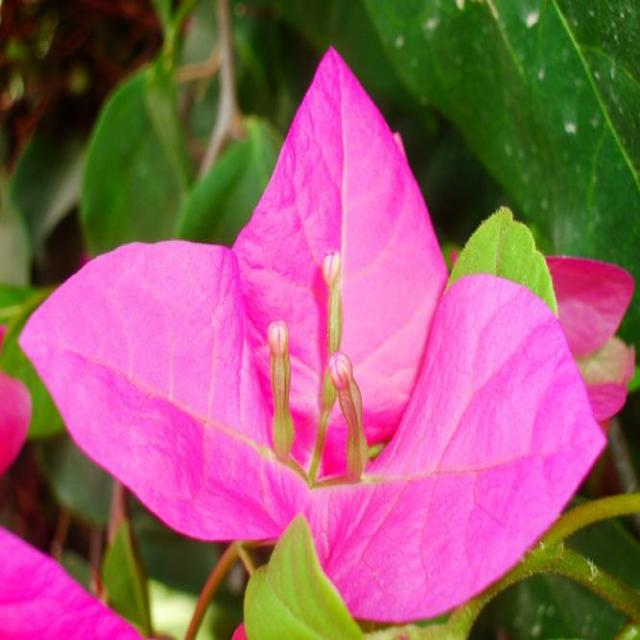bougainvillea: (38, 19, 610, 631)
